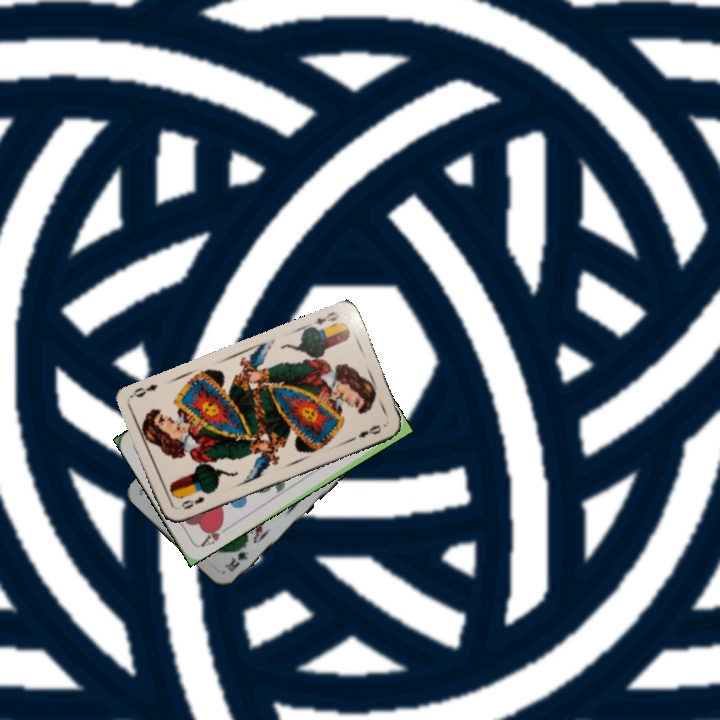EO: (310, 307, 342, 328), (178, 492, 207, 512)
GK: (223, 547, 252, 574)
HA: (196, 518, 232, 550)
